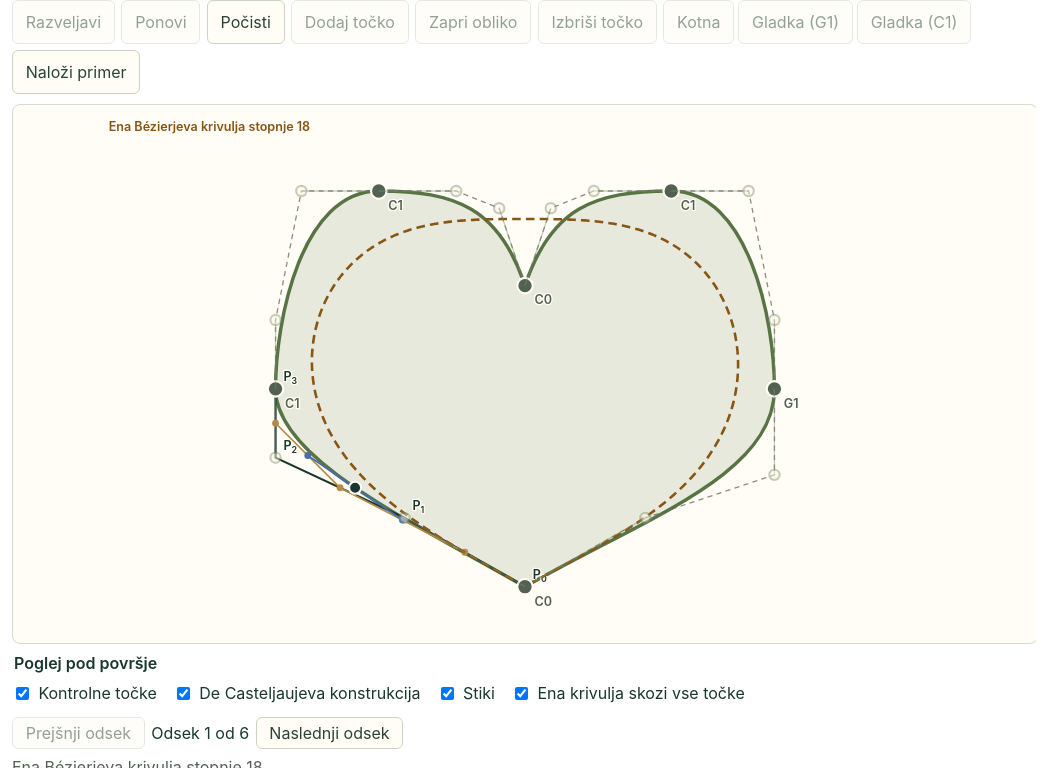
Test: controls area › has a single live region, visible segment and degree text, and a joins legend only while Joins is on
The width and height of the screenshot is (1048, 768).
expect the text "Odsek 1 od 6" is shown: met, box [151,723,249,743]
Click the checkbox labelled "Stiki".
click(447, 693)  # box [441,687,454,700]
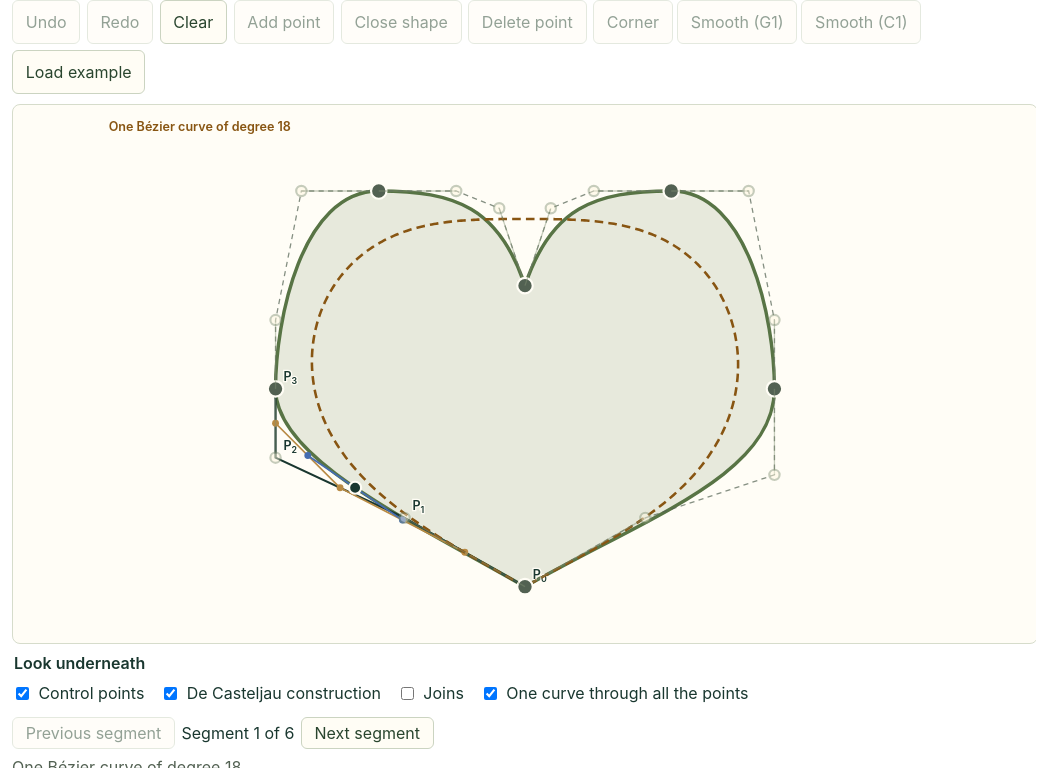
Click the checkbox labelled "Joins".
click(408, 693)  # box [401,687,414,700]
(page scrolled)
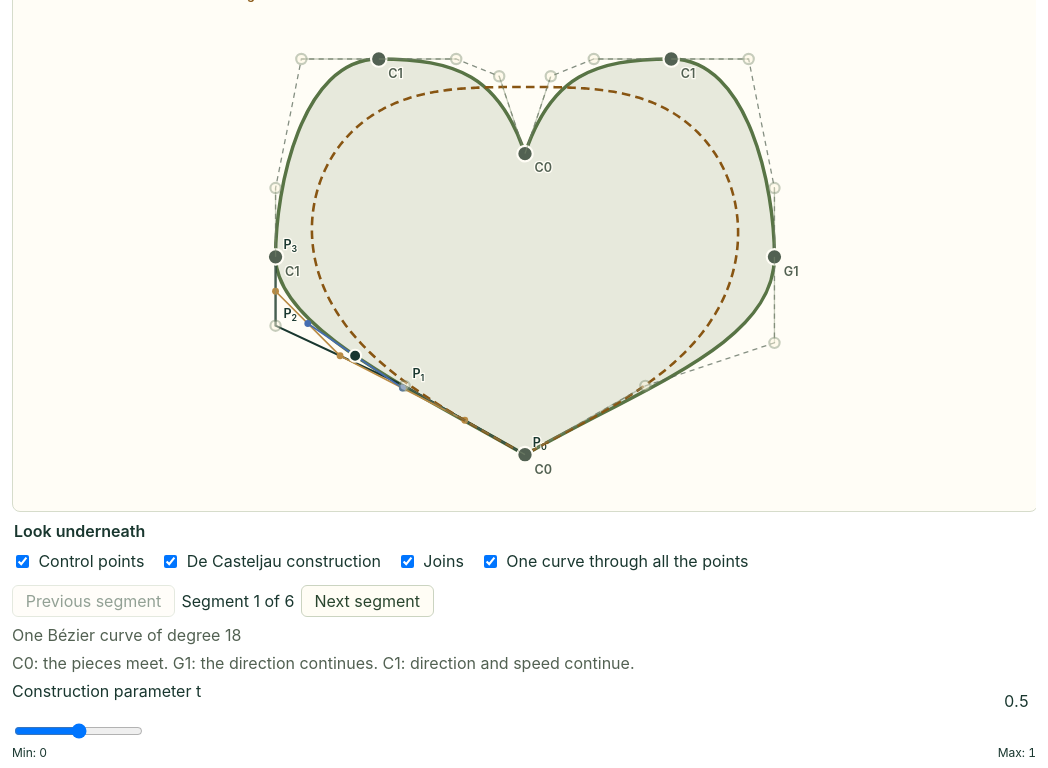
expect the text "G1: the direction continues" is shown: met, box [12,653,634,673]
